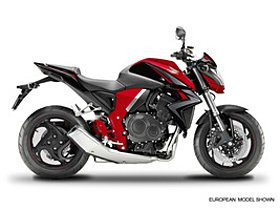motorcycle: (12, 22, 265, 185)
